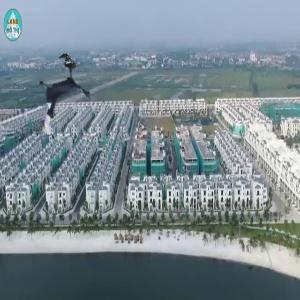drone: (28, 66, 98, 136)
